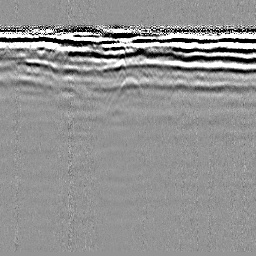cavity: (118, 74, 142, 91)
